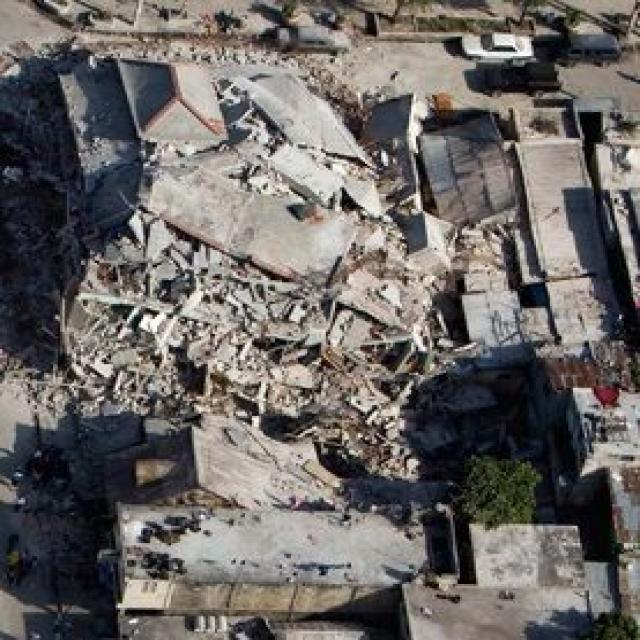collapsed_building: (35, 62, 395, 464), (416, 114, 538, 347)
